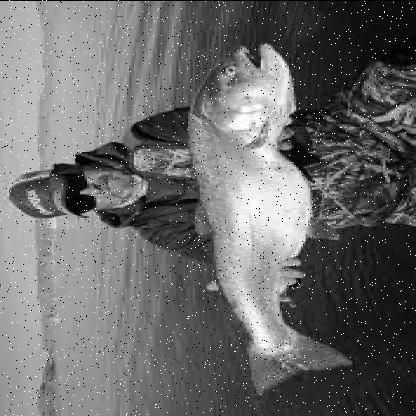fish: (179, 42, 349, 390)
